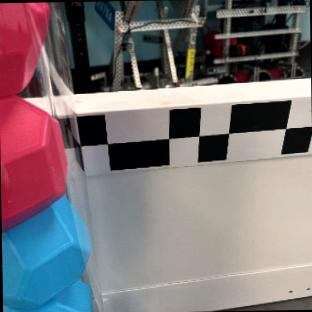Loader: (0, 2, 93, 312)
V5_BLUE: (1, 197, 90, 312)
